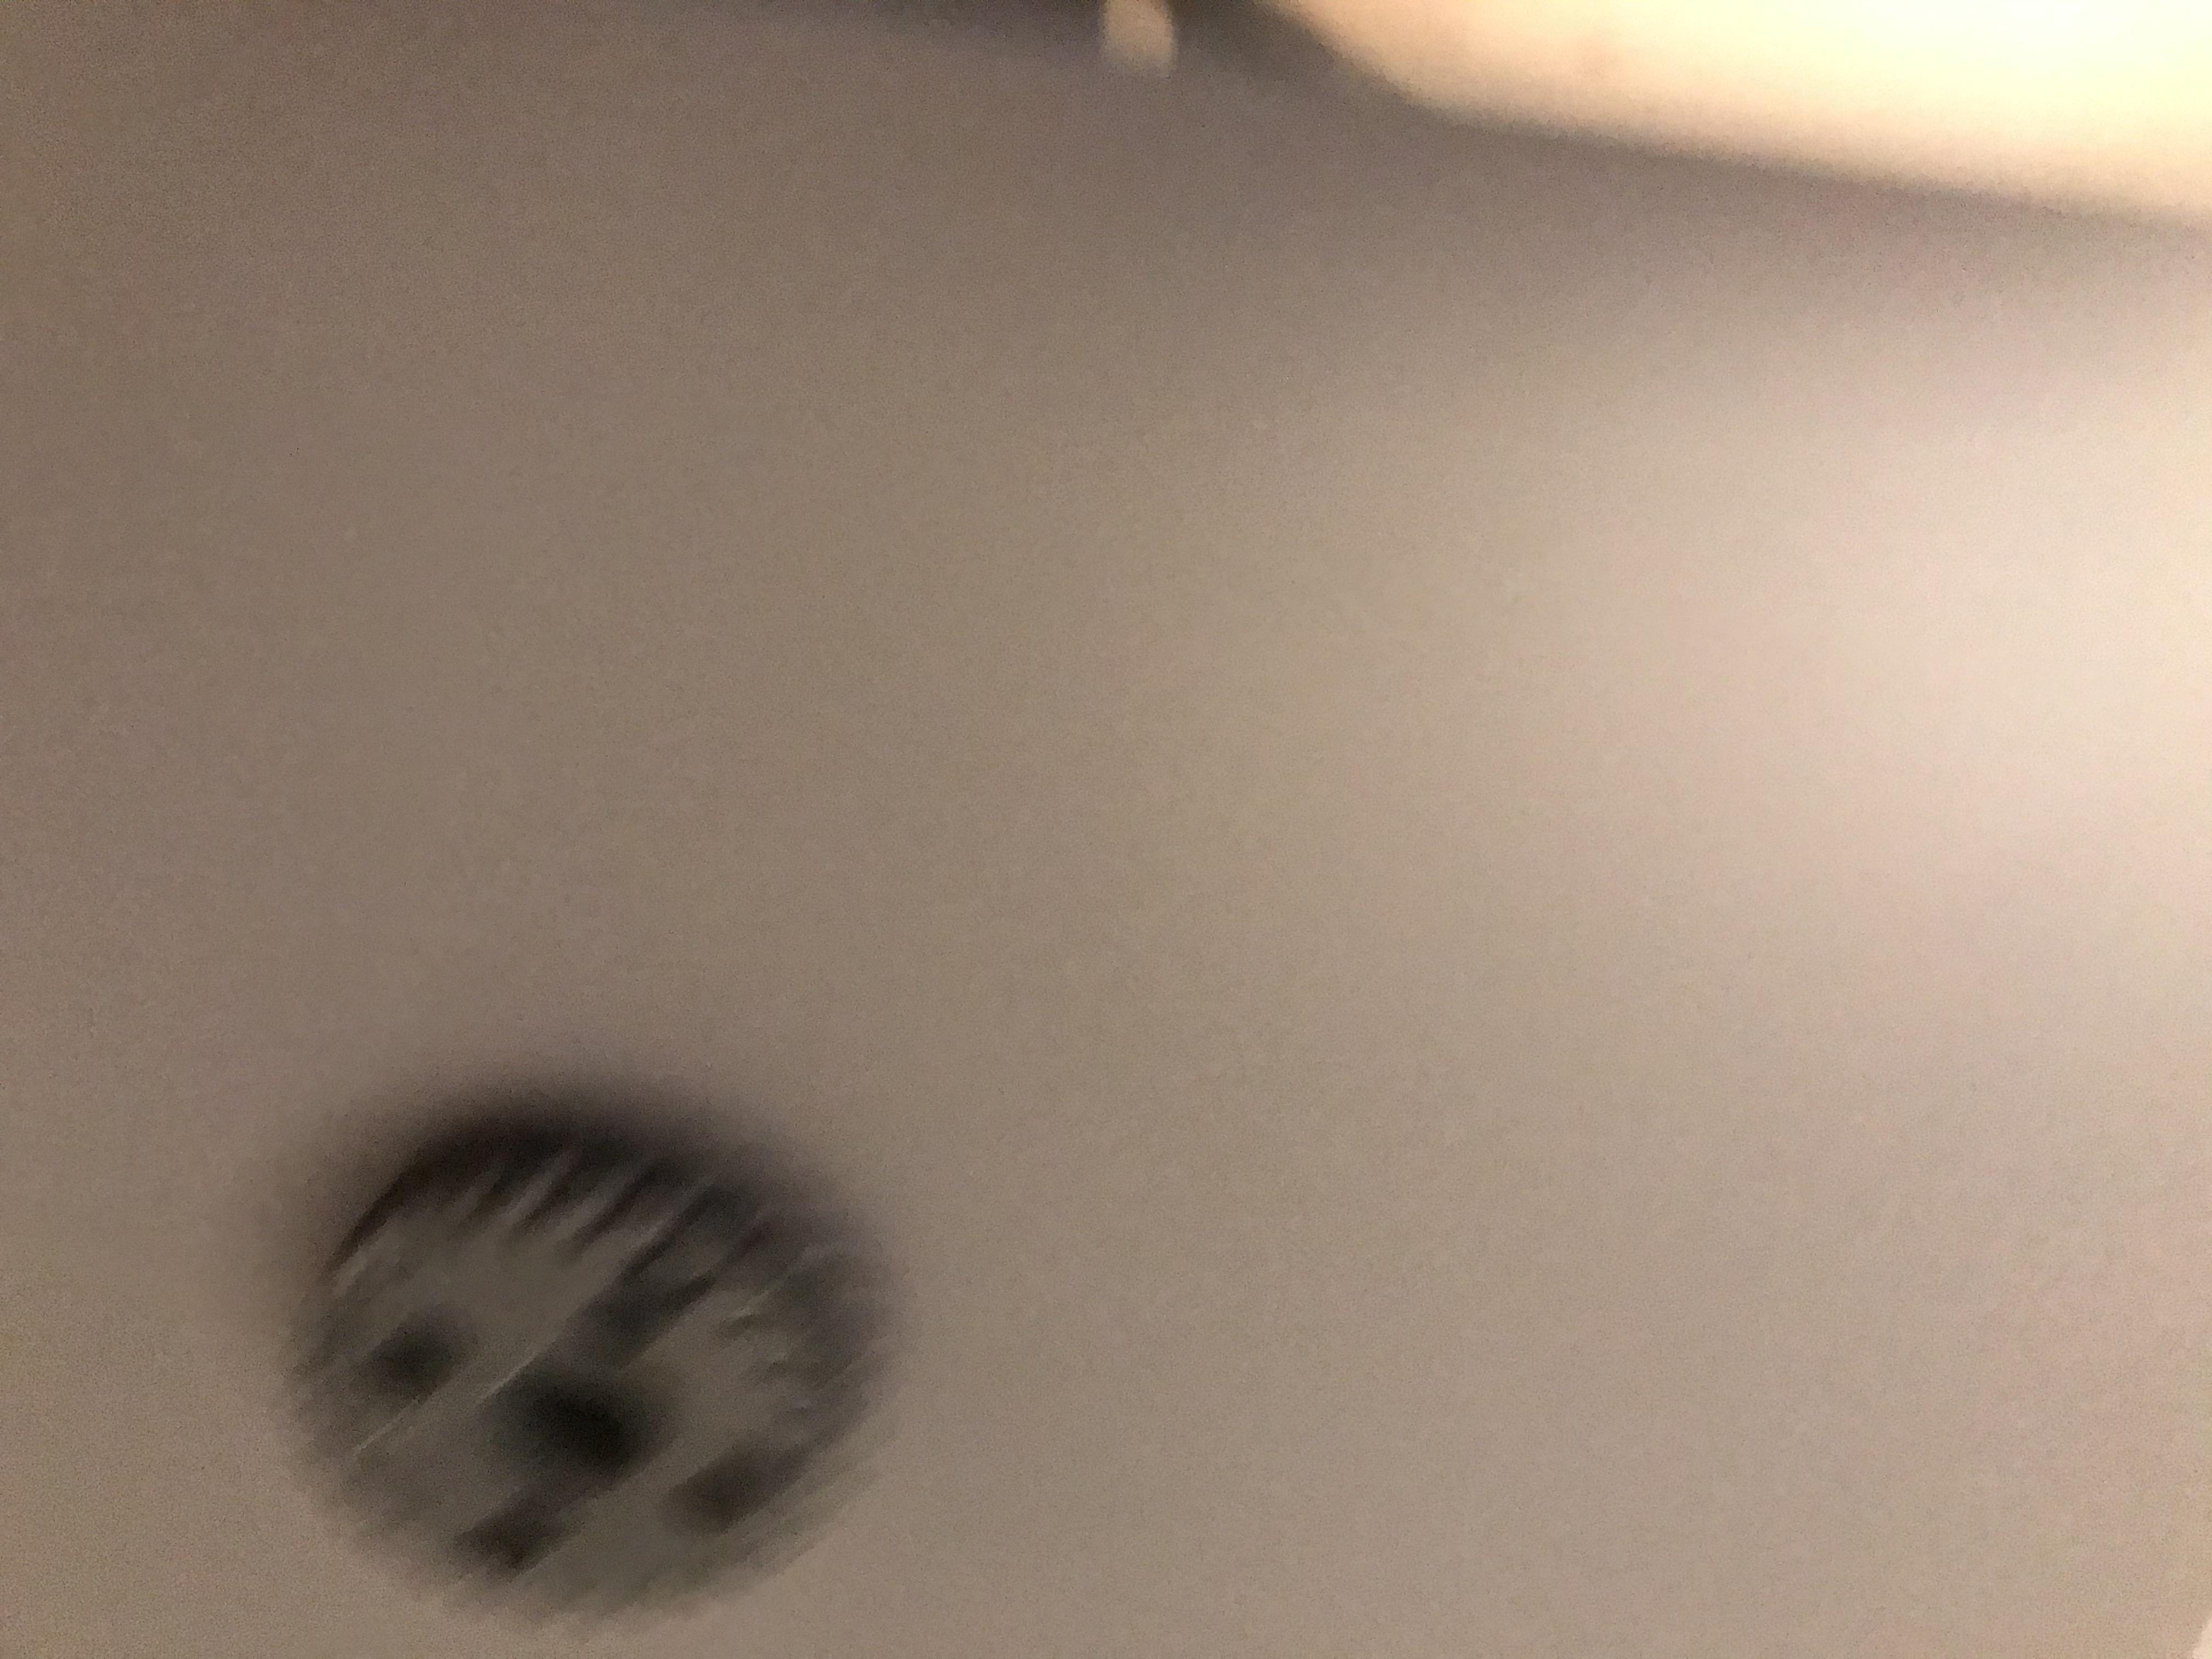Wheel: (270, 1096, 881, 1621)
